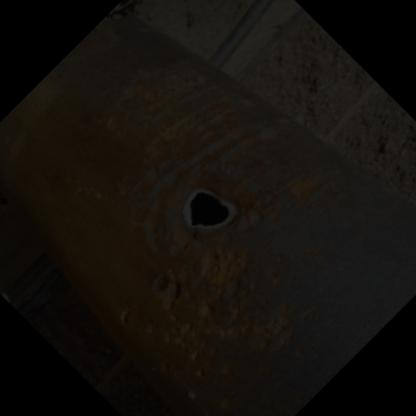burst: (171, 179, 254, 250)
